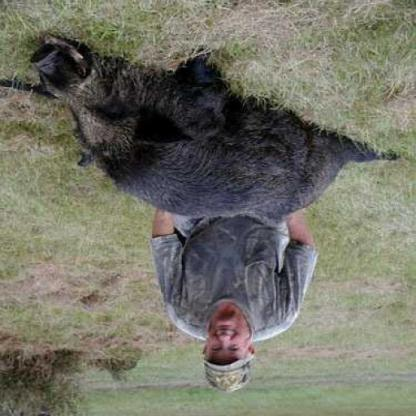boar: (32, 30, 360, 254)
